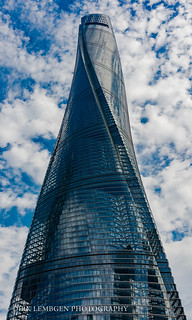high: (5, 13, 188, 319)
